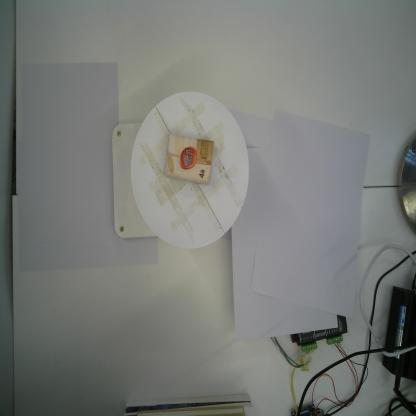Tissue: (165, 134, 214, 186)
